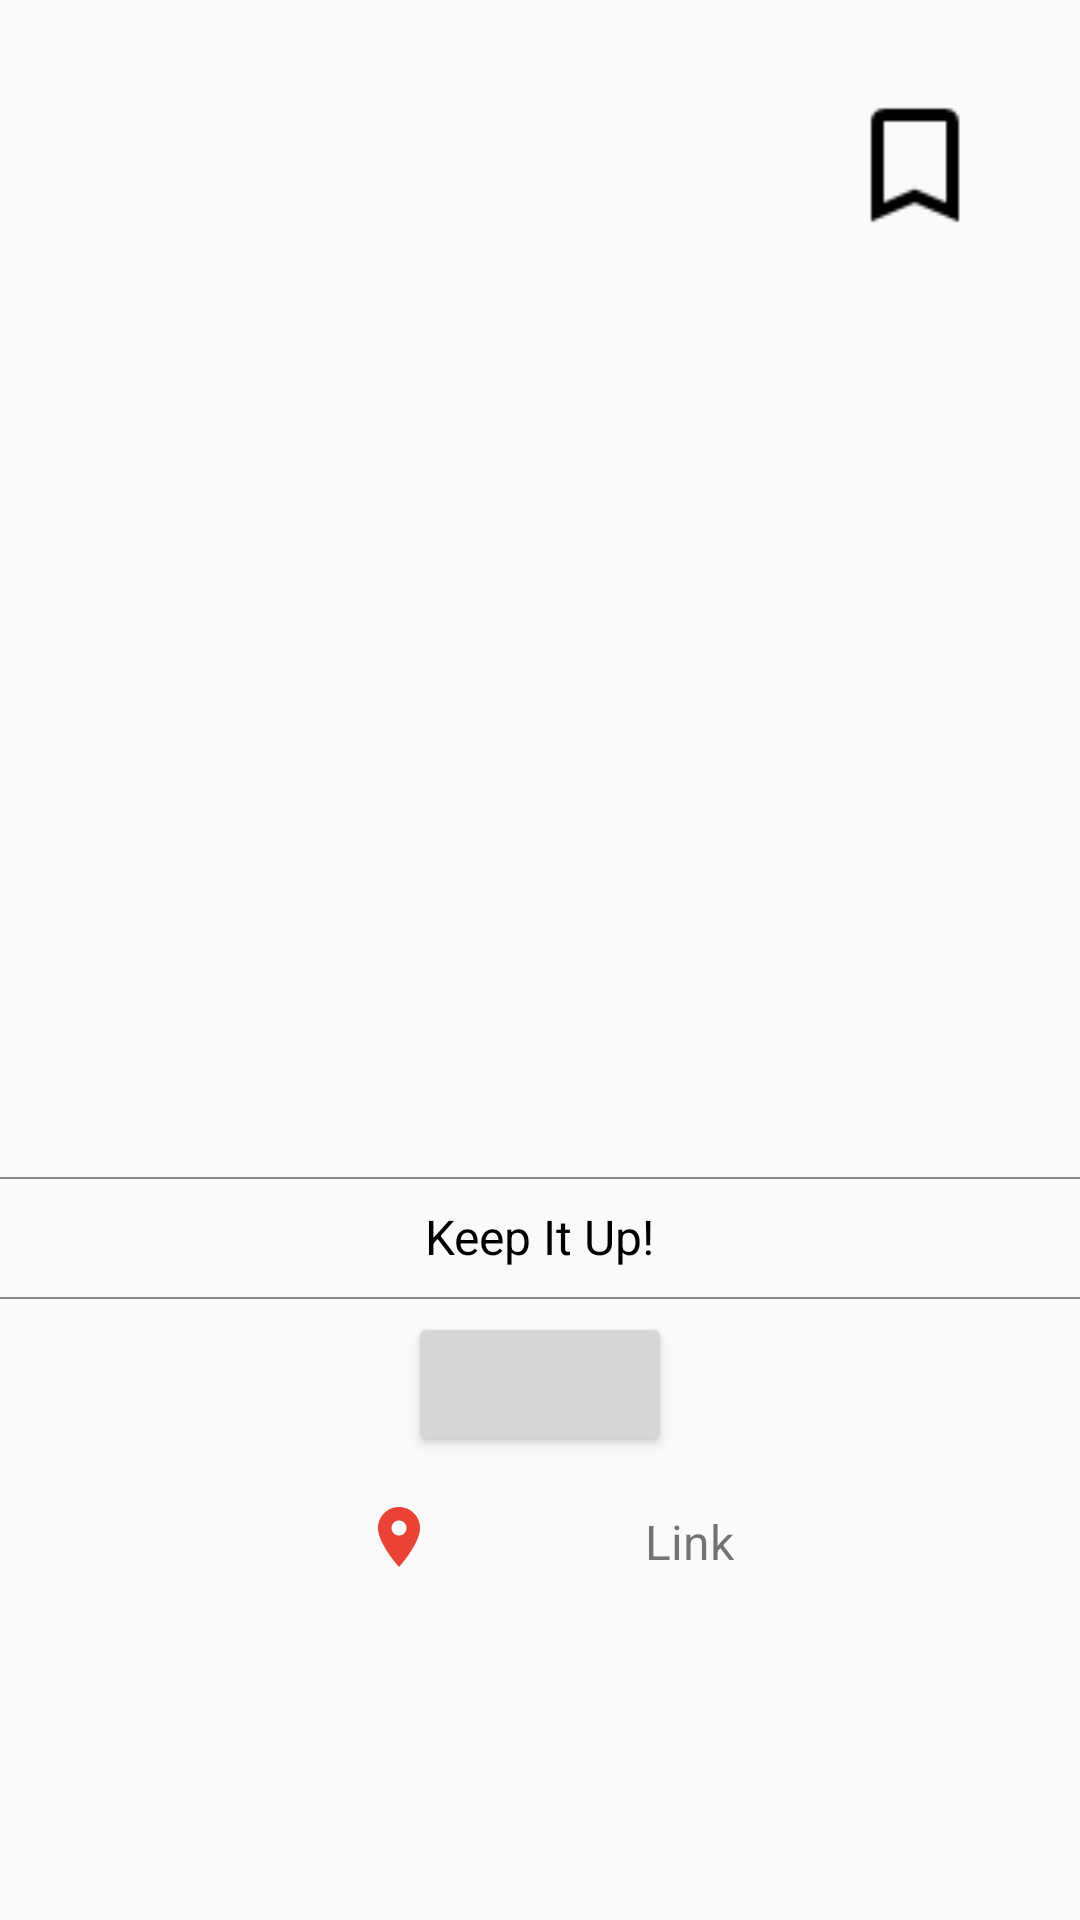

Named icons in this screenshot (1080w x 1920h) and their bounding boxes, region(x1, y1, x2, y2):
bookmark border: region(870, 107, 960, 222)
location on: region(378, 1507, 420, 1567)
